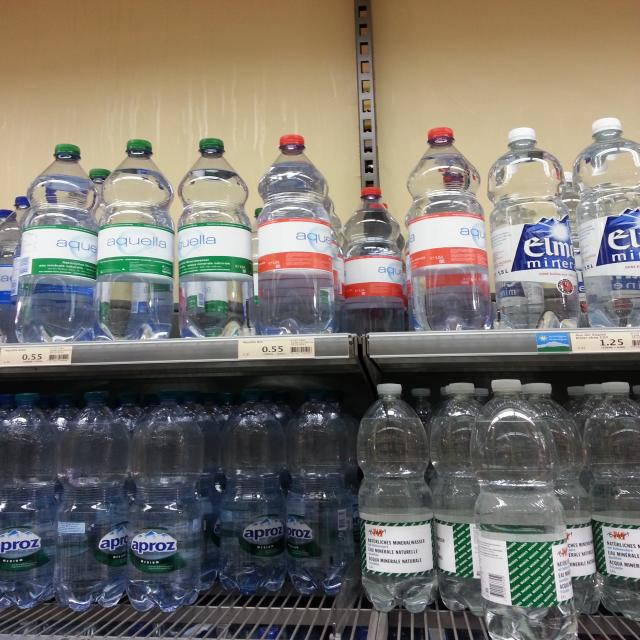Water: (477, 375, 581, 640), (356, 383, 439, 615), (489, 124, 580, 330), (248, 136, 338, 336), (406, 125, 493, 328), (97, 136, 178, 341), (127, 390, 197, 615), (566, 118, 640, 328), (217, 385, 289, 593), (177, 138, 250, 340), (21, 141, 93, 344), (56, 392, 122, 613), (431, 380, 489, 613), (290, 386, 353, 594), (588, 383, 640, 620), (0, 394, 54, 610), (343, 188, 413, 336)
